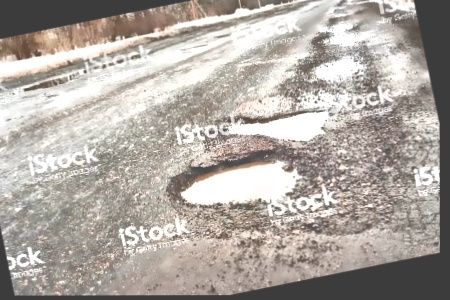pothole: (157, 134, 329, 231), (217, 96, 336, 157), (308, 52, 363, 86), (312, 28, 358, 50), (318, 18, 355, 35)
